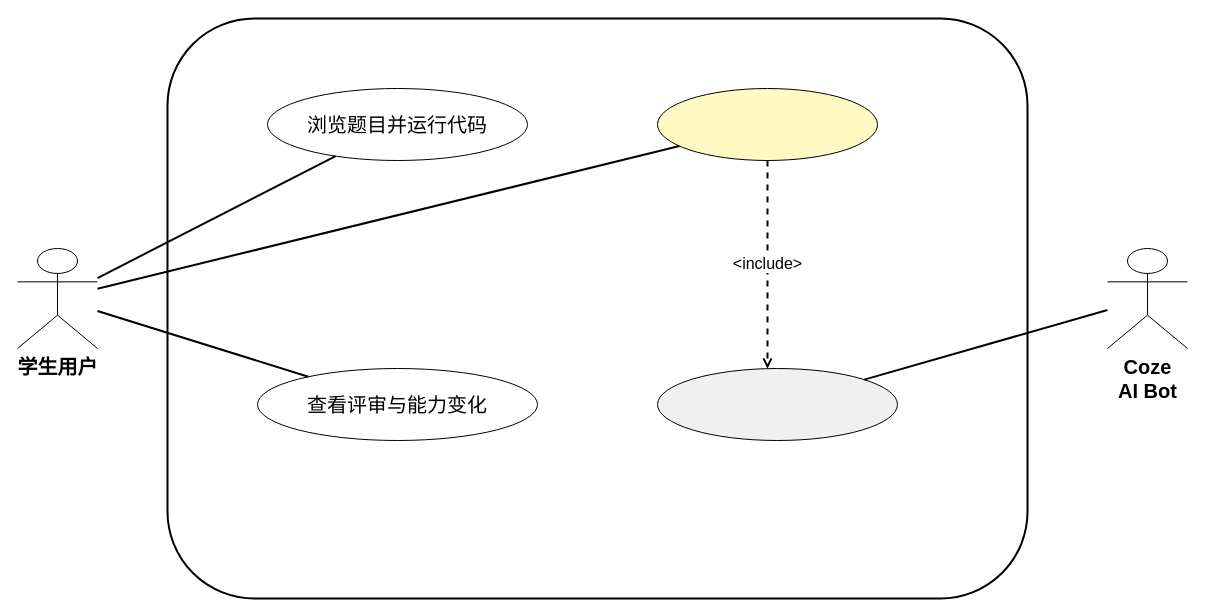
Some shapes in this 1205 by 616 pixel diagram are drawn without their labels. Here are the shapes that lost their labels. From the top down, the box of each, then its label:
(656, 88, 878, 160): 提交代码
(656, 368, 898, 440): 获取AI评审结果
